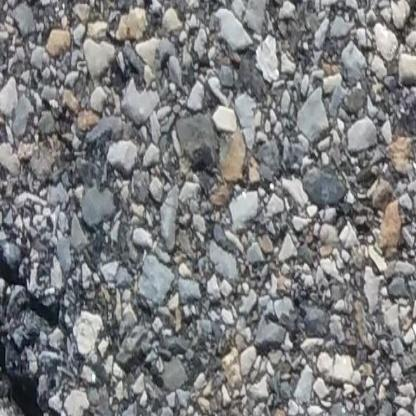Cracks: (0, 335, 65, 416)
